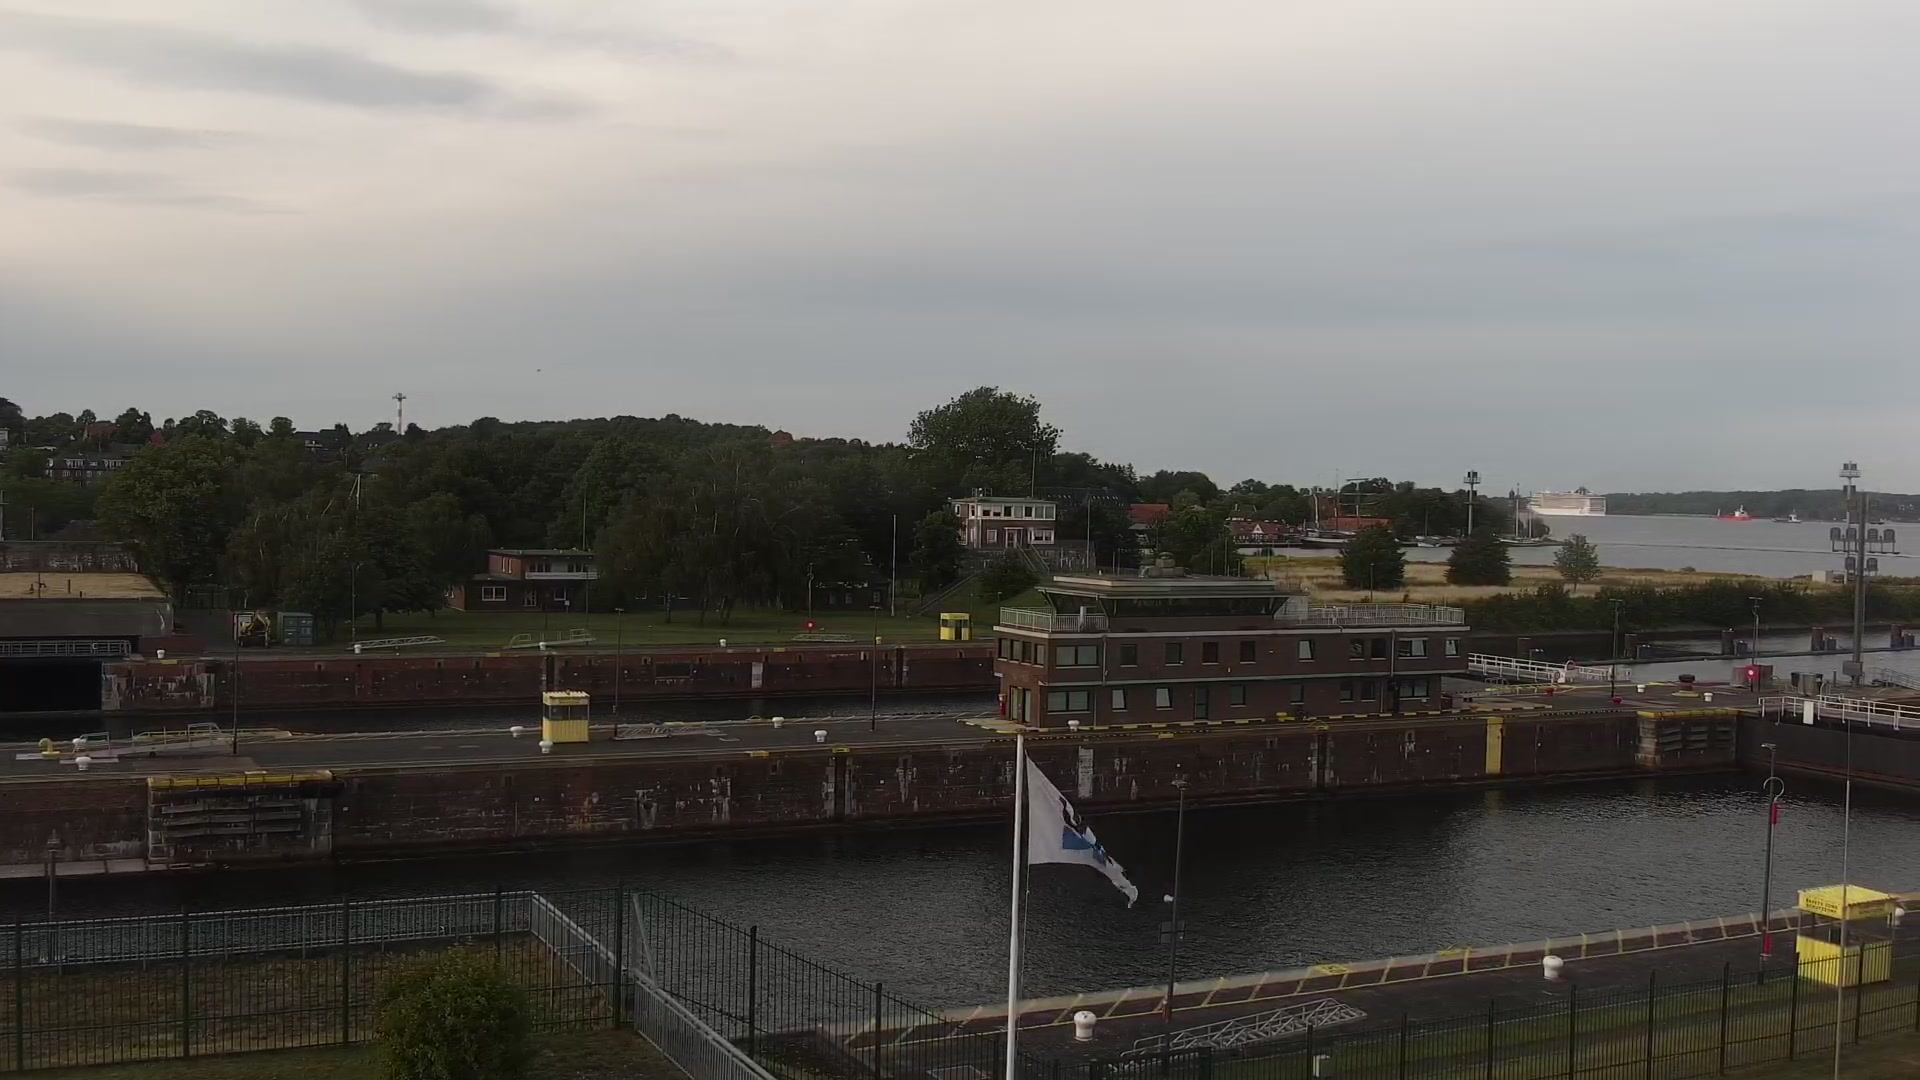land: (236, 608, 272, 647)
sea: (1300, 467, 1379, 549), (1524, 485, 1607, 516), (1499, 491, 1542, 547), (1418, 504, 1443, 547), (1712, 502, 1753, 520), (1770, 508, 1803, 524)
